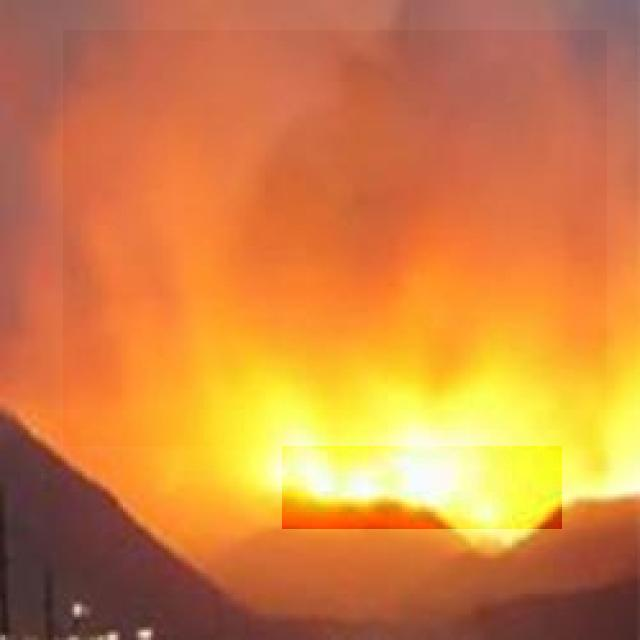Fire: (282, 423, 562, 529)
Smoke: (63, 30, 608, 446)
